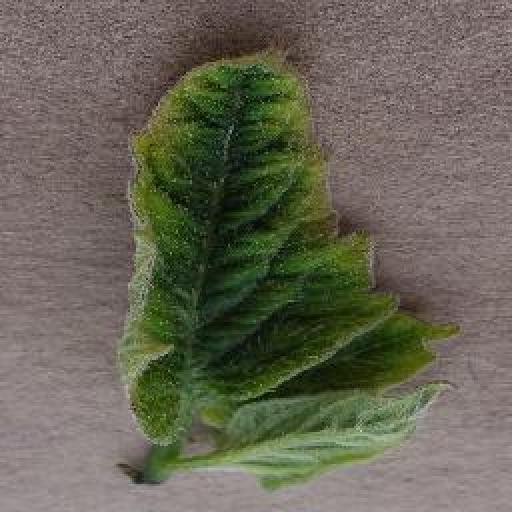disease_tomato: (115, 42, 463, 448)
